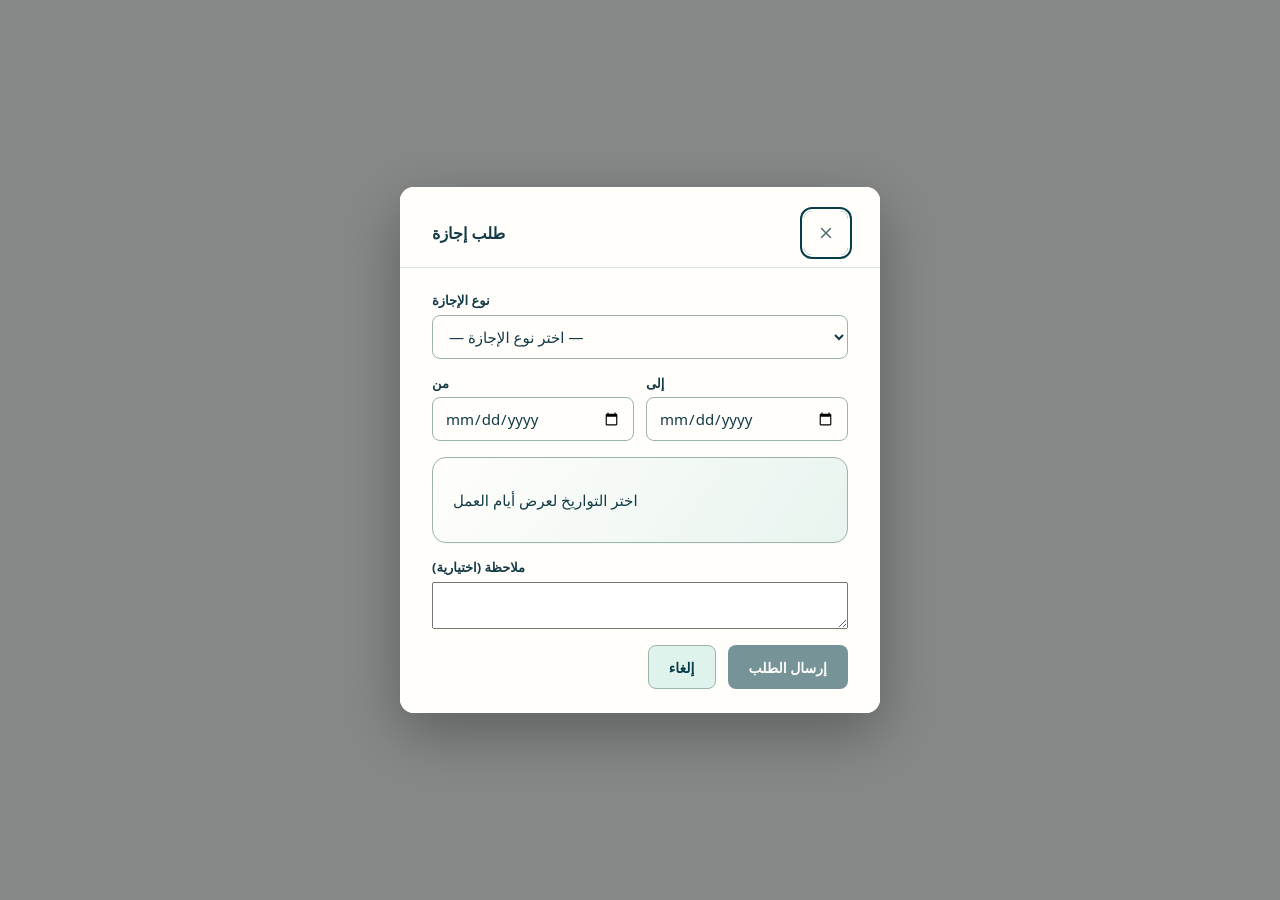
Scenario: RequestLeaveModal ATDD - Story 10.4 field-level server validation › [Story 9.4] translates known field violations under the Arabic locale, falling back to the raw message for unmapped fields
The image size is (1280, 900).
Expected: the dialog with test id "request-leave-modal" is shown, [400,187,880,713]
Select "🌴 Annual Leave" in the dropdown labelled "نوع الإجازة" at (640, 336), box [432,314,848,358]
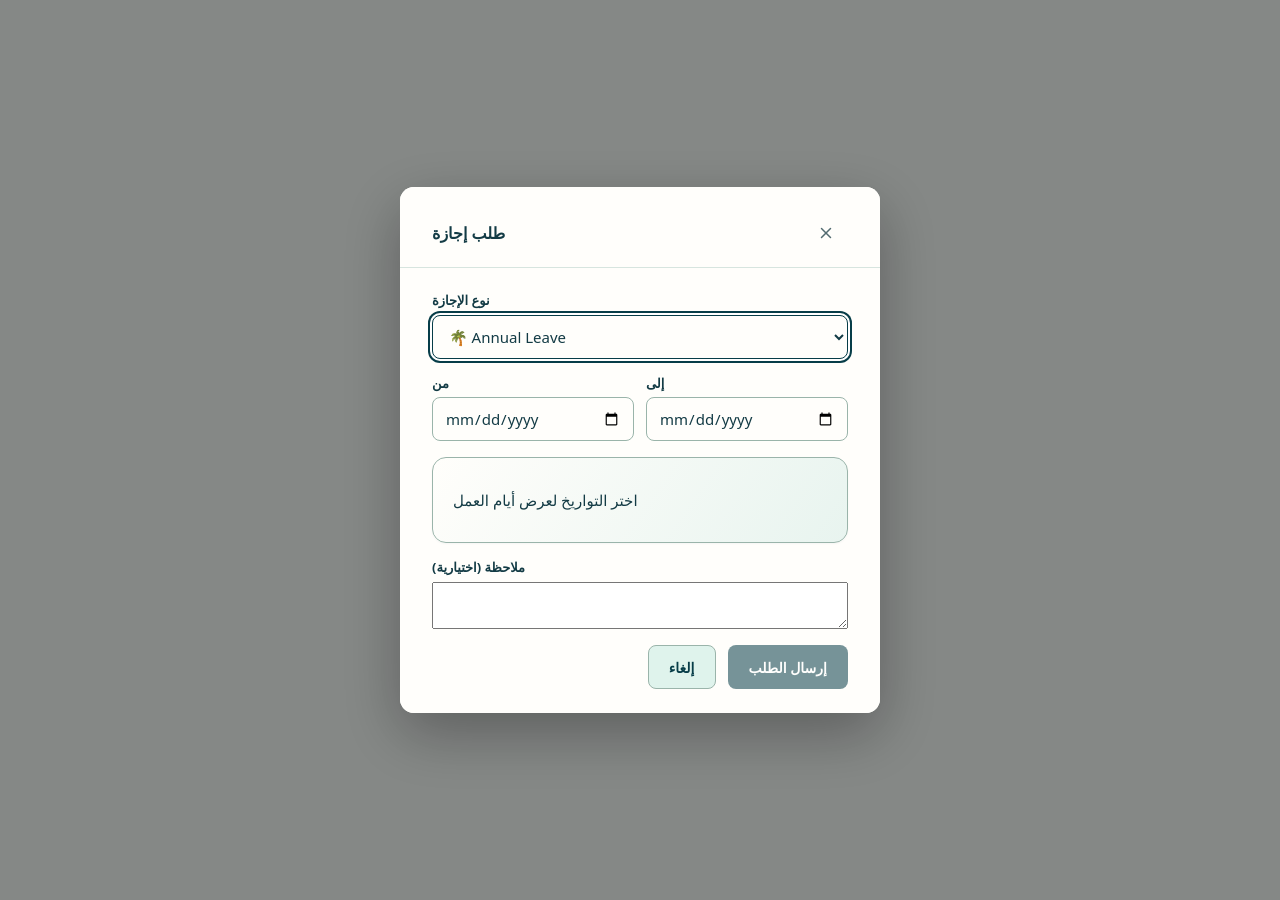
Type "2026-06-10" into the date field with test id "leave-from-date".
click(533, 419); type("2026-06-10")  # box [432,397,634,441]
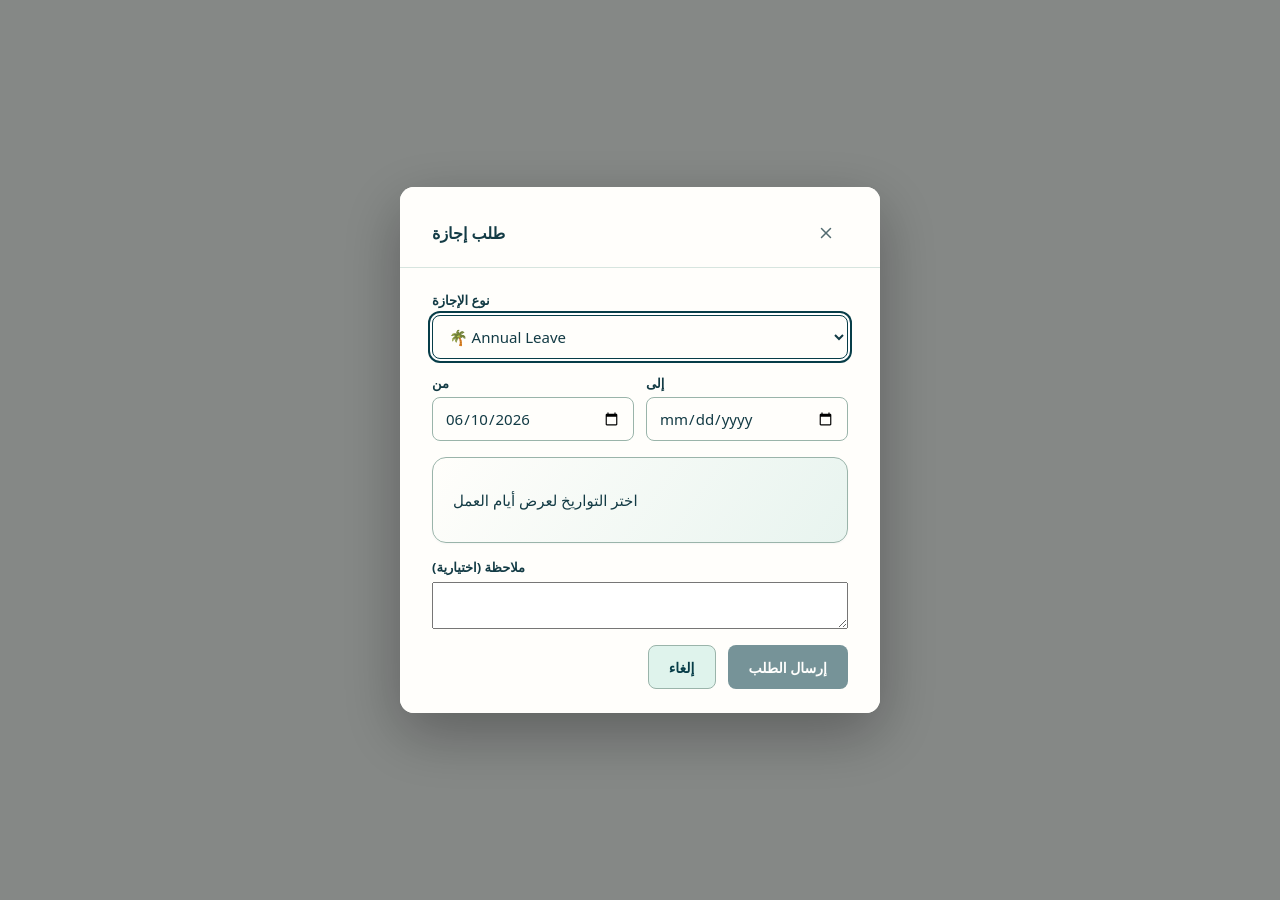
Type "2026-06-12" into the date field with test id "leave-to-date".
click(747, 419); type("2026-06-12")  # box [646,397,848,441]
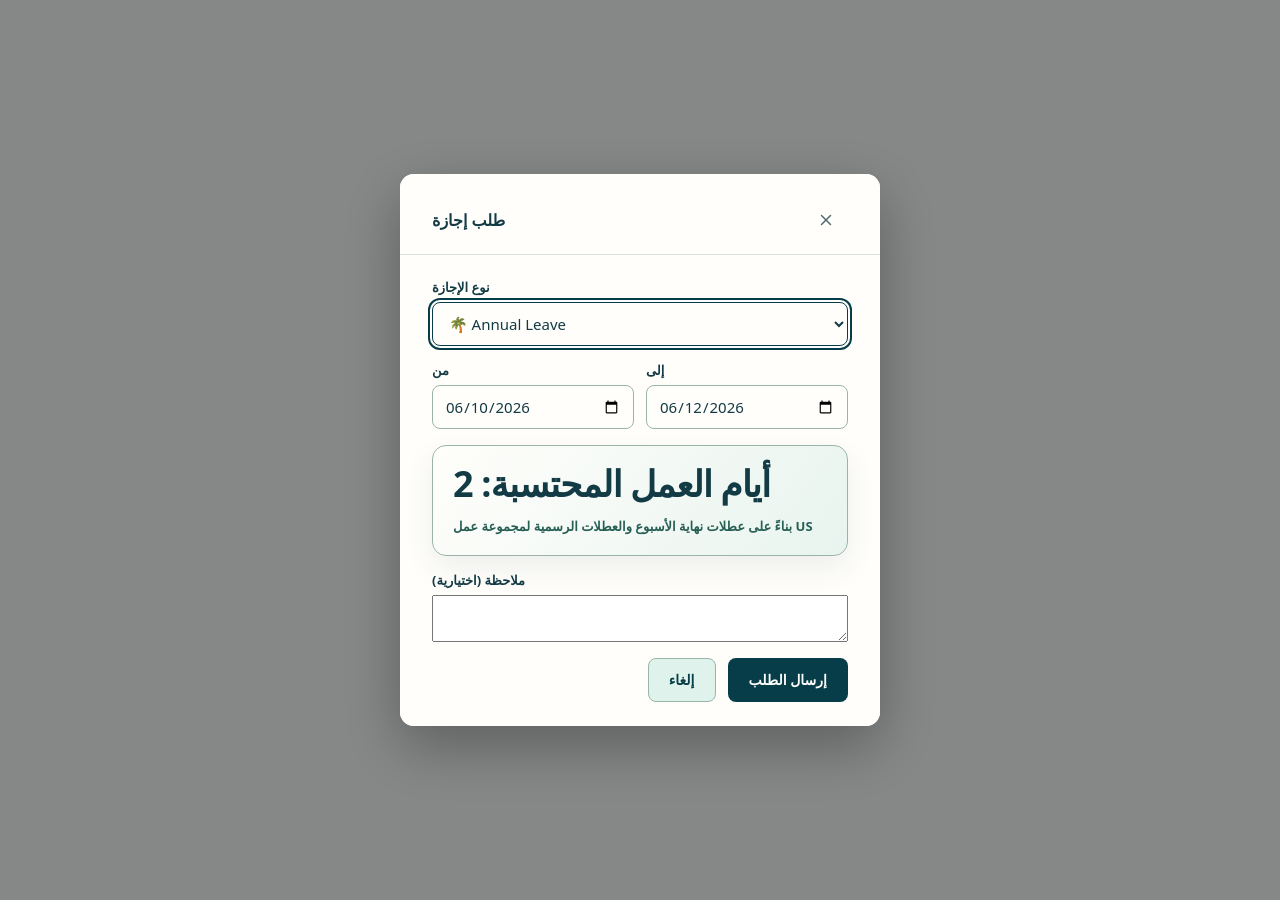
Now the button with test id "submit-request-btn" is enabled
Click the button with test id "submit-request-btn".
click(788, 680)  # box [728,658,848,702]
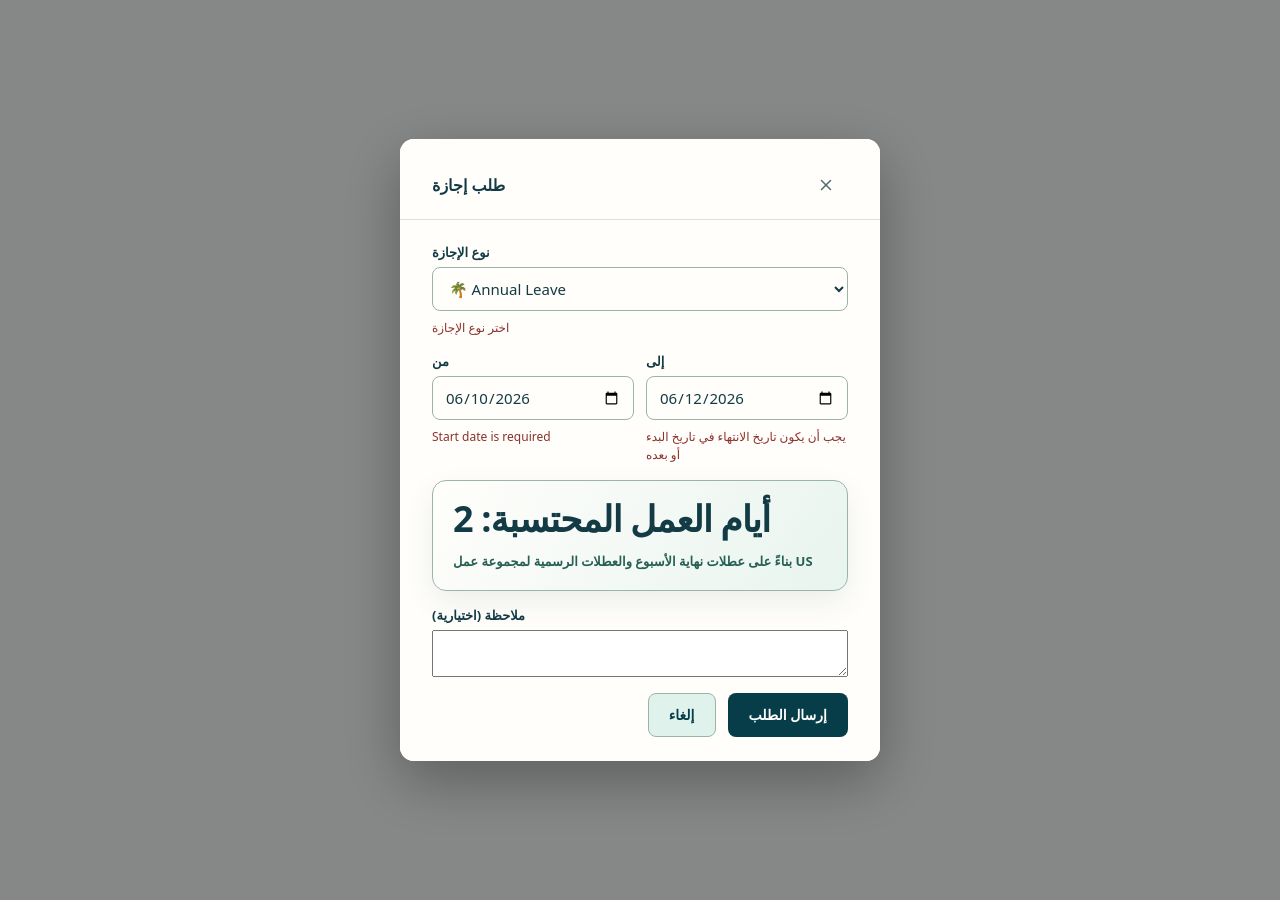
Now the message with test id "field-error-leave-type" reads "اختر نوع الإجازة", box [432,319,509,336]
Now the message with test id "field-error-leave-to-date" reads "يجب أن يكون تاريخ الانتهاء في تاريخ البدء أو بعده", box [646,428,846,463]
Now the message with test id "field-error-leave-from-date" reads "Start date is required", box [432,428,551,445]
